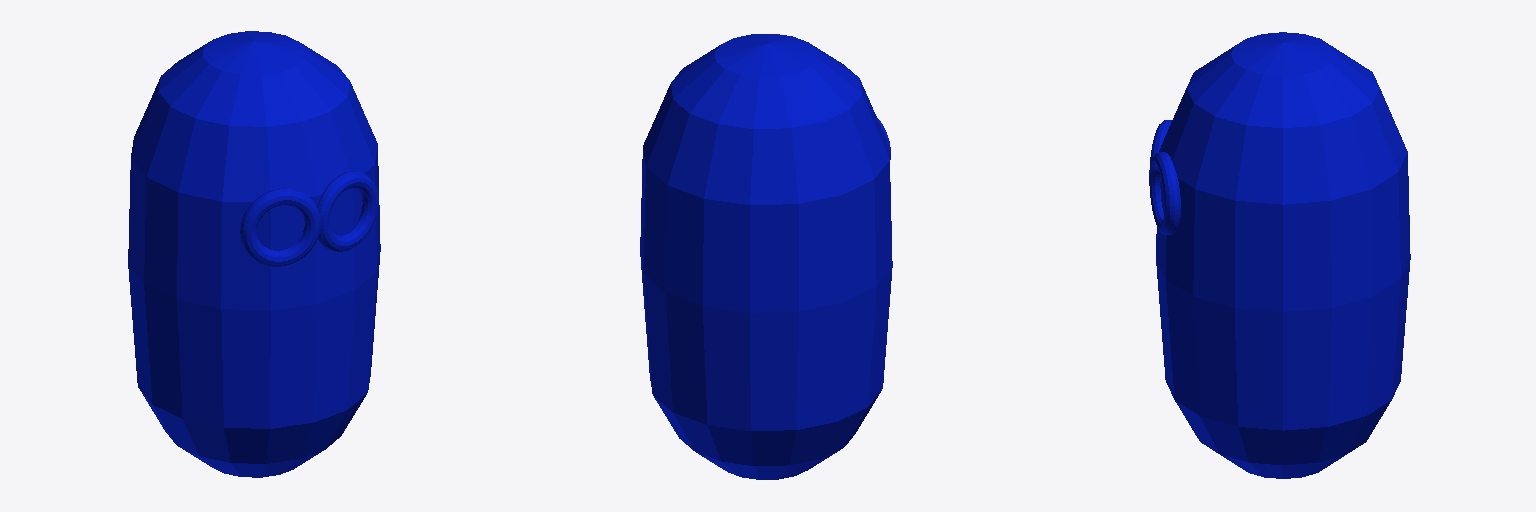
File: player.obj
3 views of the same model, side by side, from view 1: azimuth 30°, elevation 25°; view 2: azimuth 150°, elevation 25°; view 3: azimuth 270°, elevation 25° (orthographic).
Parts seen in each view (by area): view 1: player; view 2: player; view 3: player.
Boxes of the visible parts, x1=… form: player: x1=128, y1=31, x2=380, y2=477; player: x1=640, y1=34, x2=892, y2=479; player: x1=1149, y1=32, x2=1410, y2=478.
Bounding box in the file's own units: 1.61 × 2.98 × 1.65.